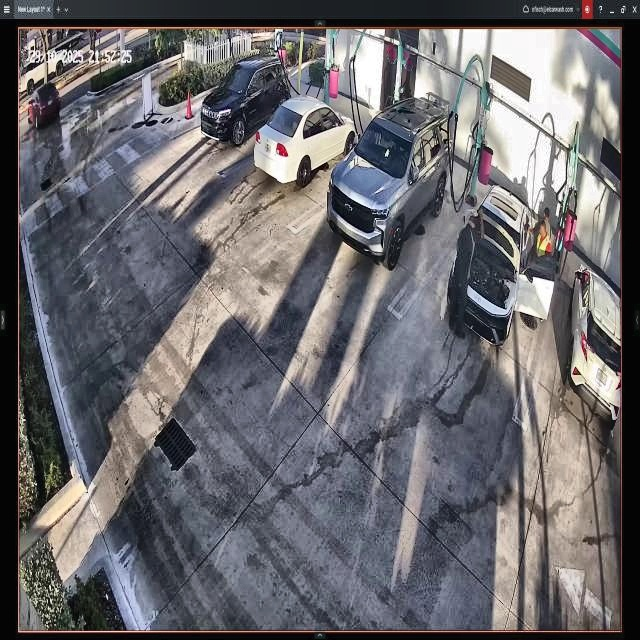Car: (326, 98, 450, 262), (450, 185, 558, 344), (254, 95, 358, 184), (199, 60, 291, 143)
